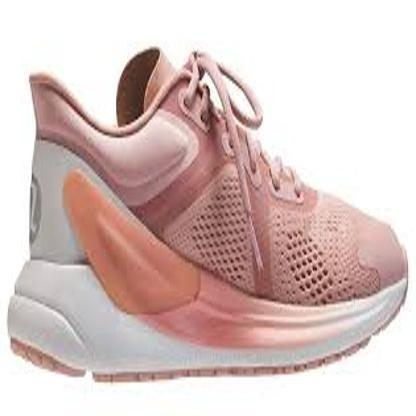not trash: (7, 39, 409, 380)
